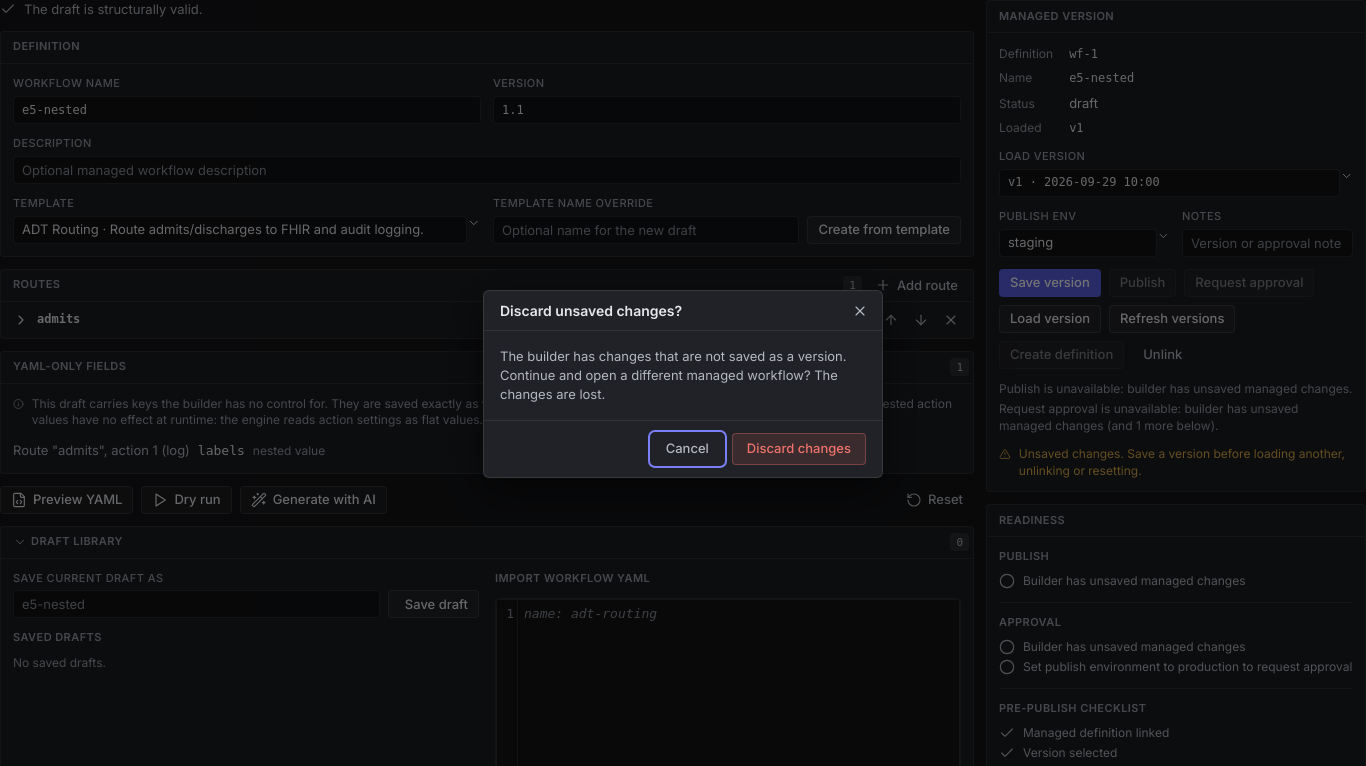
Test case: WorkflowBuilder › keeps the original managed draft and selection until replacing it is confirmed
Expected: the element with test id "workflow-yaml-only" is shown, [0,351,974,474]
Click the button "Cancel" at (687, 449), box [651,433,724,465]
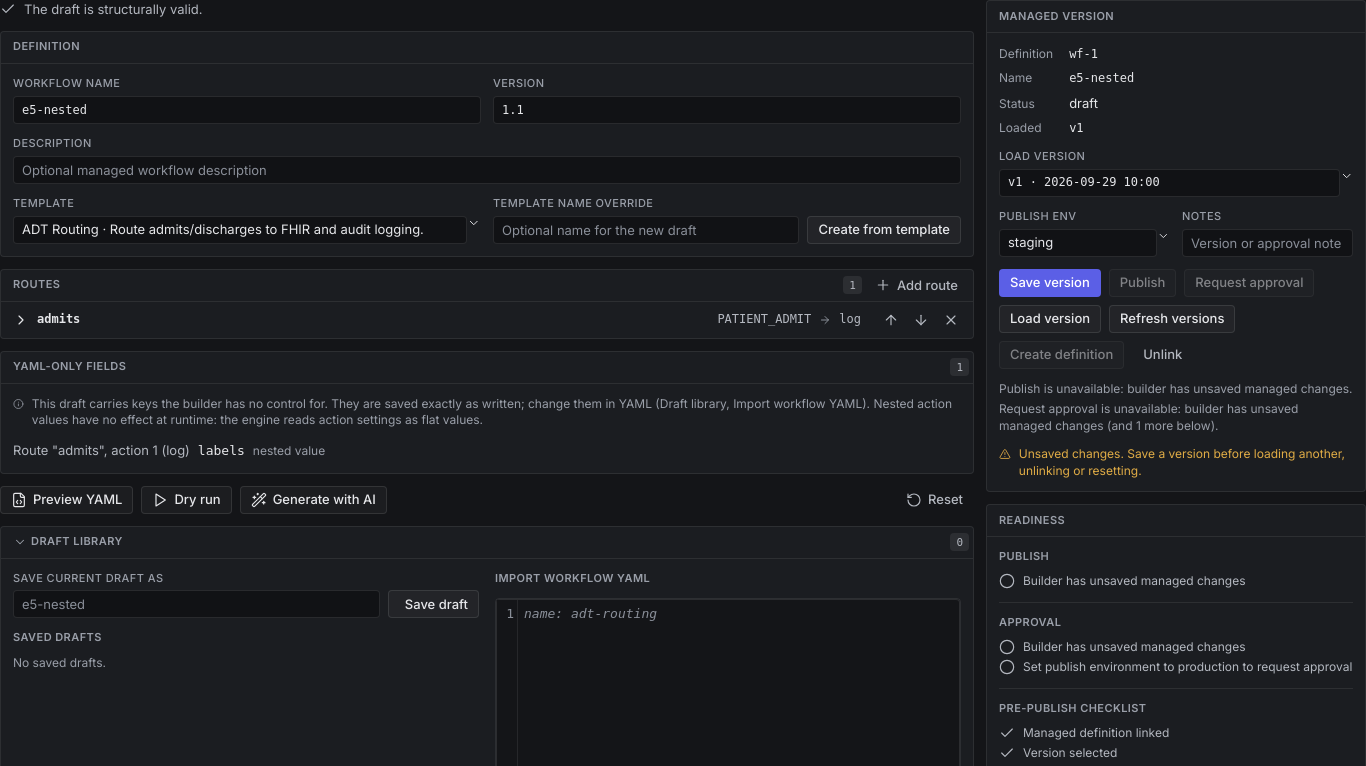
Expected: the text "wf-1" is shown, [1069,47,1098,61]
Now the dialog is gone
